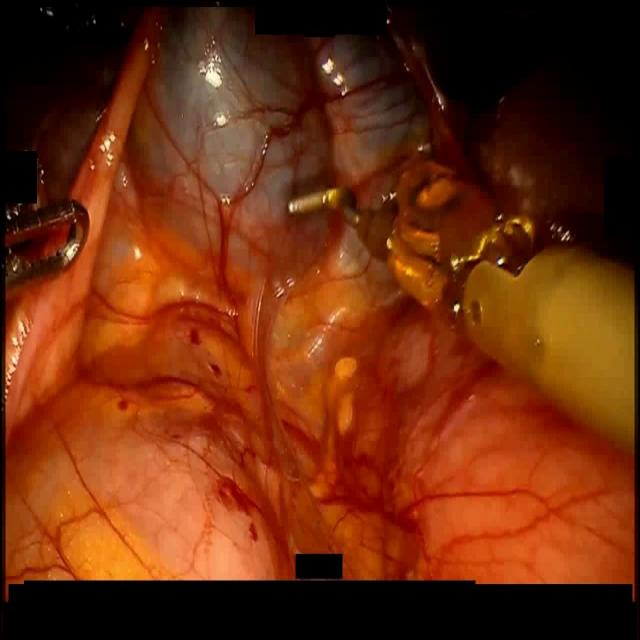surgical-tool: (284, 158, 636, 440), (0, 203, 88, 289)
